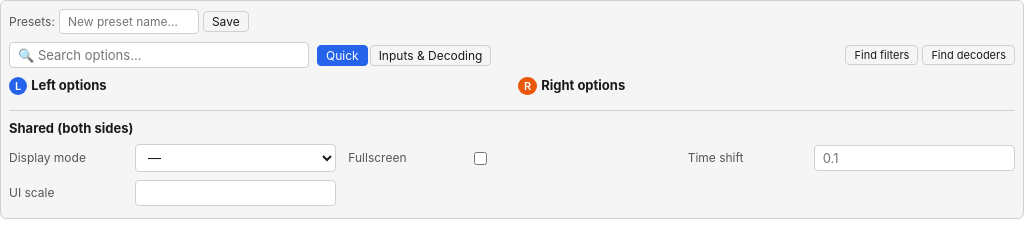
Test: OptionsForm › clicking a tab switches the active group
The width and height of the screenshot is (1024, 236).
Click the button "Inputs & Decoding" at (430, 55), box [370,44,491,66]
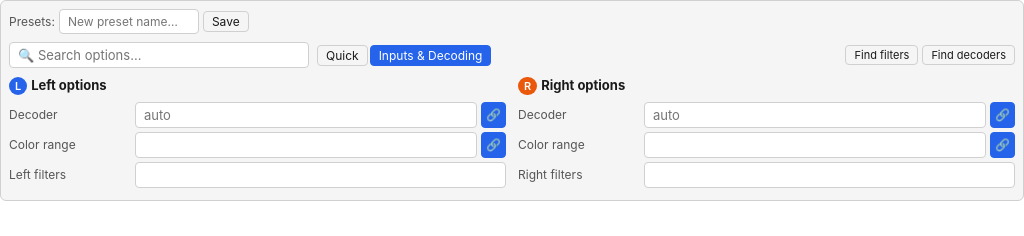
Expected: the text "Decoder" below "Left options" is shown, [9,106,58,122]
Expected: the text "Left filters" is shown, [9,166,66,182]
Expected: the text "Right filters" is shown, [518,166,582,182]
